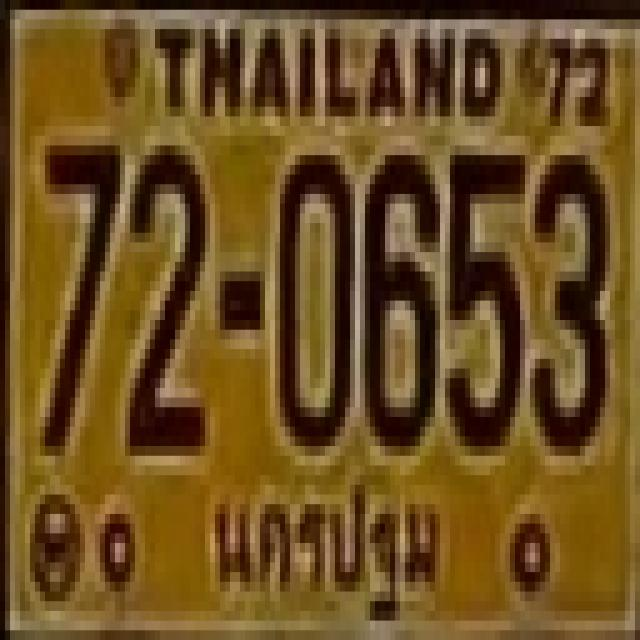0: (275, 150, 350, 442)
2: (125, 141, 200, 441)
3: (530, 146, 605, 446)
5: (445, 146, 520, 446)
6: (360, 146, 435, 446)
7: (40, 136, 115, 446)
NPT: (208, 474, 441, 624)
